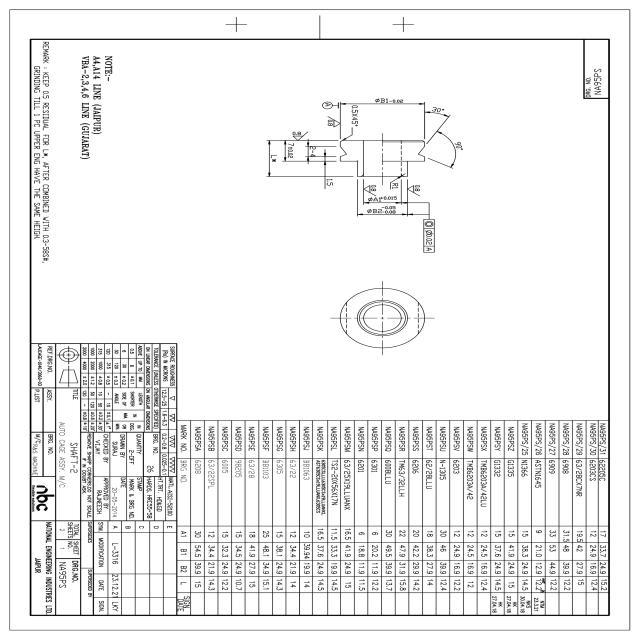dimension: (366, 206, 397, 214), (350, 105, 360, 129), (374, 97, 405, 104), (368, 195, 398, 202), (431, 105, 447, 114), (287, 142, 295, 159), (454, 140, 467, 150), (269, 154, 280, 163), (309, 146, 317, 158), (324, 178, 334, 187), (390, 182, 400, 190)
